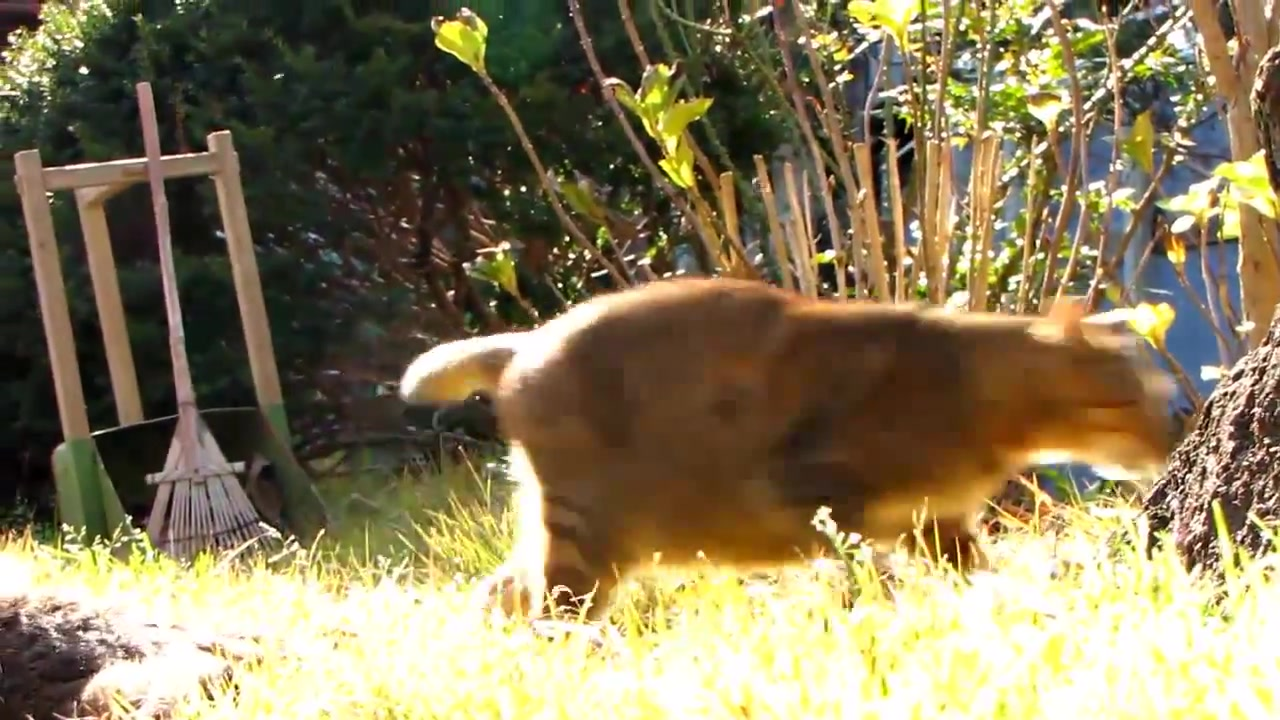cat: (396, 268, 1177, 629)
